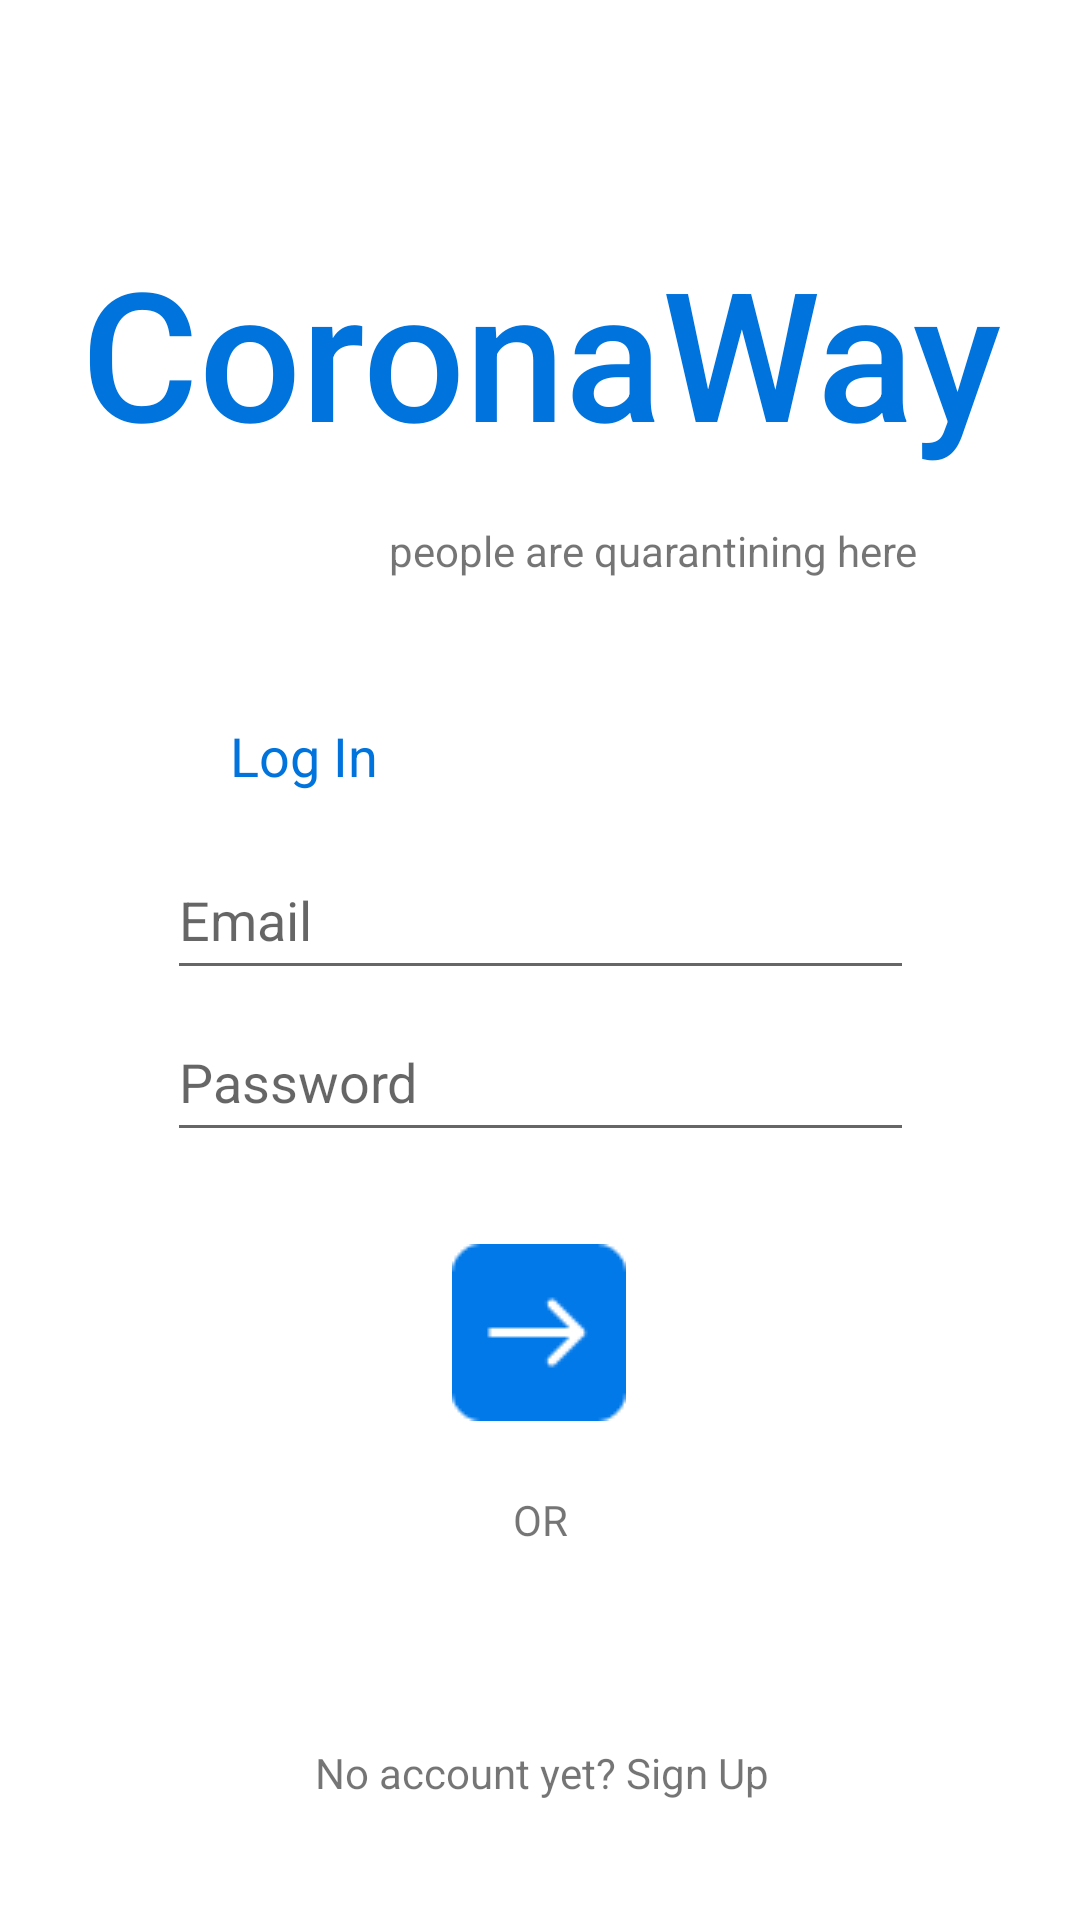

Named icons in this screenshot (1080x1920) and their bounding boxes, bbox=(x1, y1, x2, y2):
go button: bbox=(452, 1244, 626, 1421)
